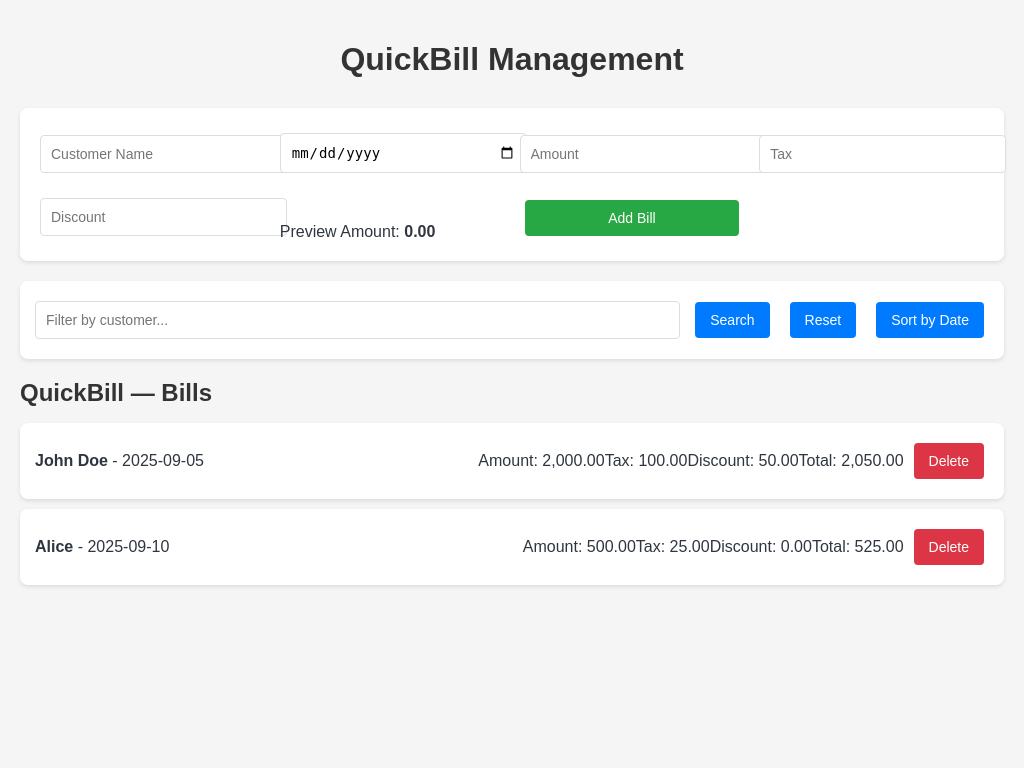
Test: QuickBill React App › search_by_customer_should_filter_list
Expected: the text "John Doe" is shown, [35,452,108,469]
Expected: the text "Alice" is shown, [35,538,73,555]
Type "Alice" into the field with placeholder "Filter by customer...". click: (358, 320)
box: [35,301,680,339]
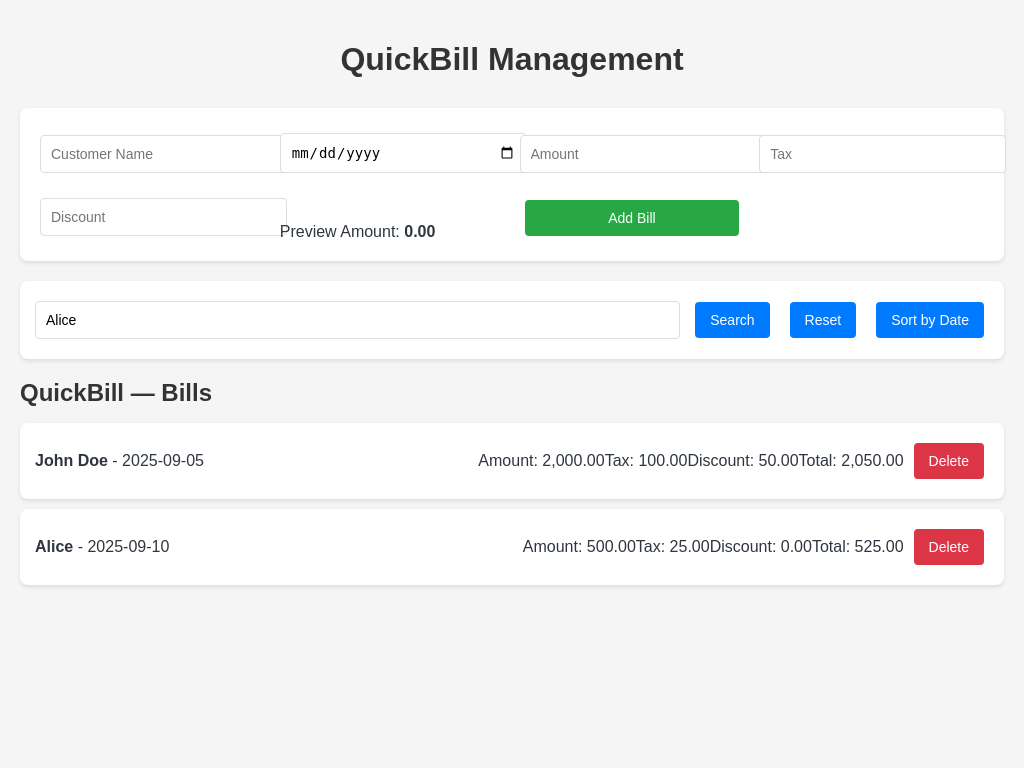
Click the button "Search". click: (732, 320)
box: [695,302,770,338]
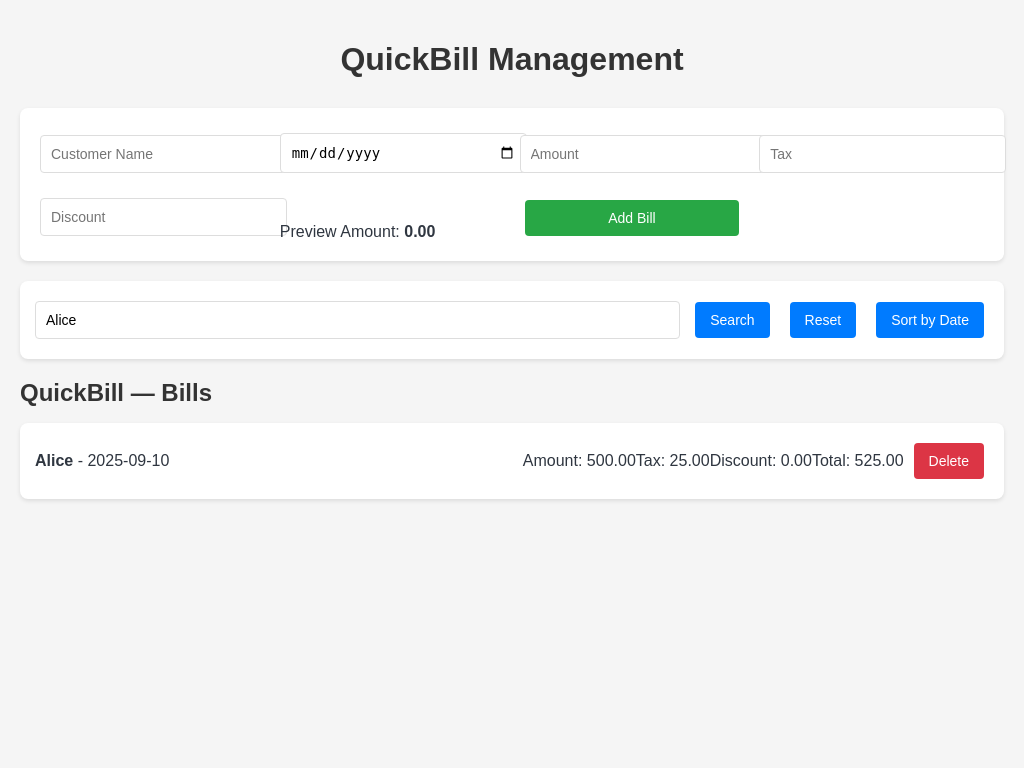
Expected: the text "Alice" is shown, [35,452,73,469]
Now the text "John Doe" is gone
